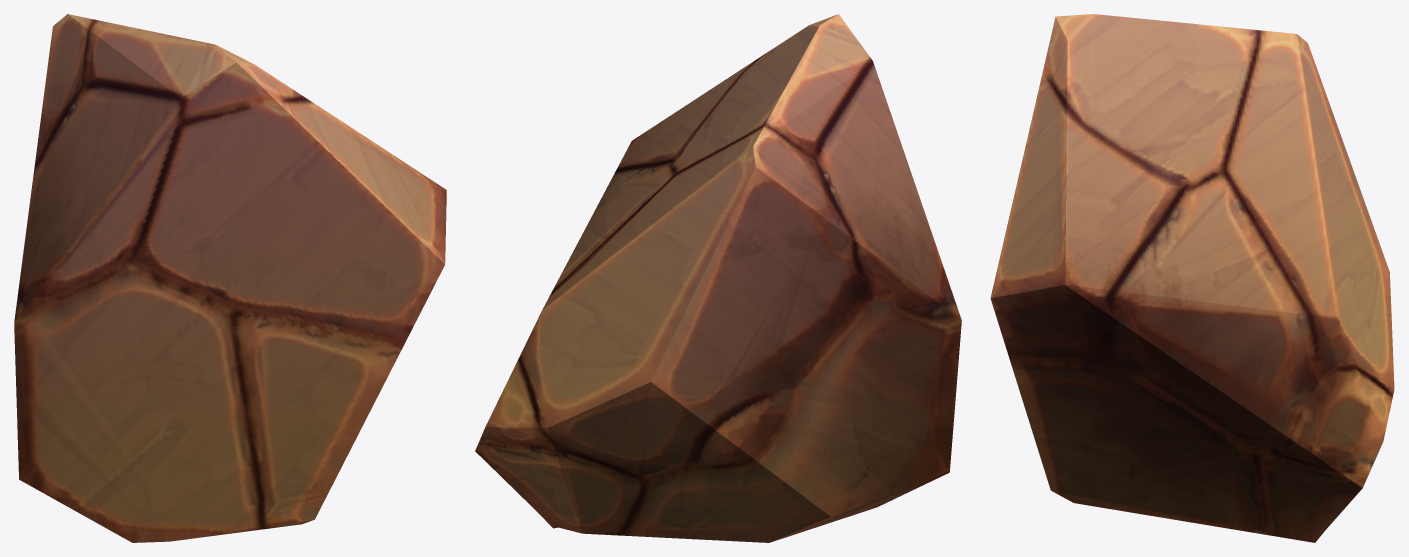
Rendered from rocks_3.fbx.
3 views of the same model, side by side, from view 1: azimuth 30°, elevation 25°; view 2: azimuth 150°, elevation 25°; view 3: azimuth 270°, elevation 25° (orthographic). The views are drawn at different scales.
Visible parts, largest first — view 1: Cube.003_cell.066; view 2: Cube.003_cell.066; view 3: Cube.003_cell.066.
Part boxes in pixels (x1,y1,x2,y2): Cube.003_cell.066: (14, 14, 446, 542); Cube.003_cell.066: (475, 14, 961, 542); Cube.003_cell.066: (990, 14, 1394, 542).
Bounding box in the file's own units: 125 × 146 × 118.
